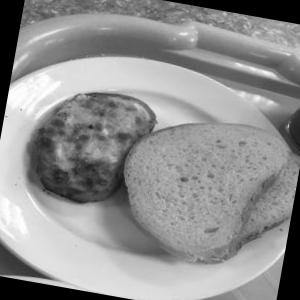bread: (99, 78, 300, 287)
cheese_sandwich: (22, 68, 157, 231)
